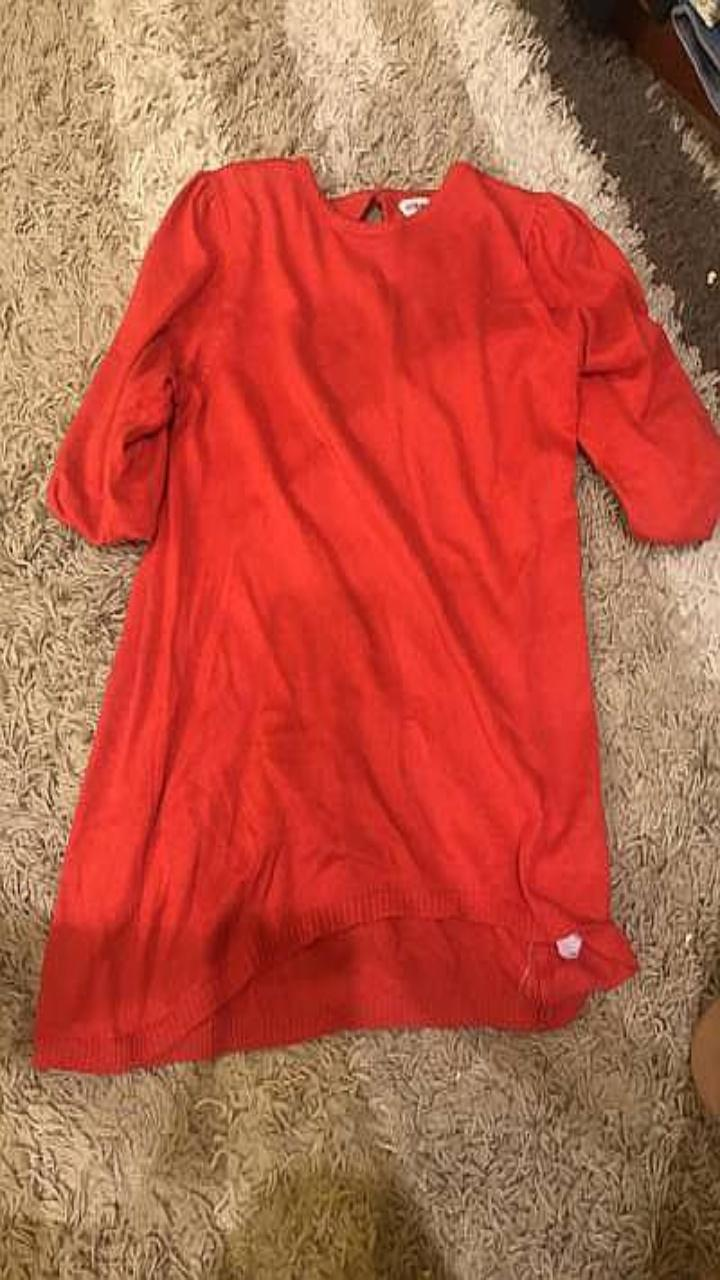T-Shirt: (33, 156, 719, 1072)
